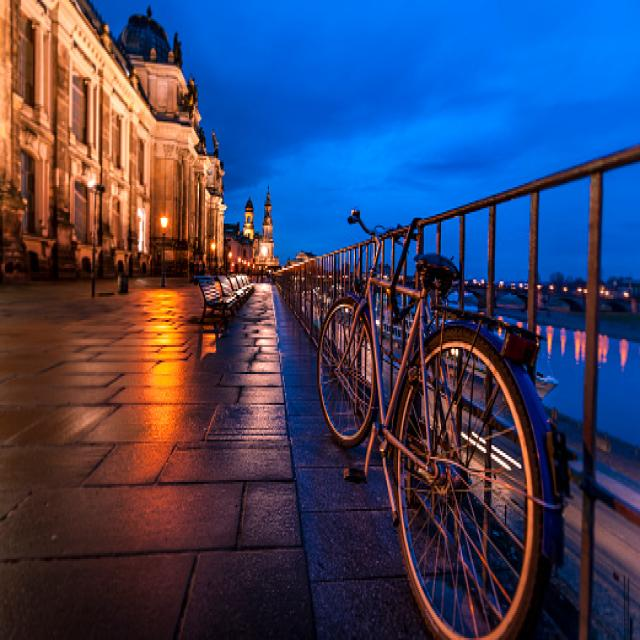Bicycle: (306, 201, 597, 640)
chair: (198, 248, 273, 343)
